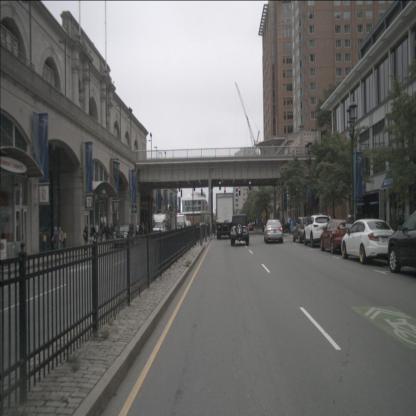human-pedestrian-adult: (57, 227, 64, 255), (52, 227, 58, 254), (83, 225, 88, 251), (105, 223, 110, 244), (91, 224, 95, 248), (102, 222, 106, 245), (109, 223, 113, 243), (95, 222, 99, 241), (287, 216, 291, 234), (139, 223, 143, 238), (145, 222, 148, 238), (100, 221, 103, 236), (142, 222, 145, 237), (136, 223, 139, 237), (100, 225, 102, 246)
vehicle-car: (340, 221, 396, 262), (388, 209, 416, 272), (319, 220, 351, 253), (304, 214, 335, 247), (231, 211, 249, 246), (293, 216, 316, 242), (114, 222, 136, 247), (263, 219, 284, 243)
vehicle-truck: (215, 191, 236, 241), (152, 211, 169, 237), (175, 212, 188, 230)
